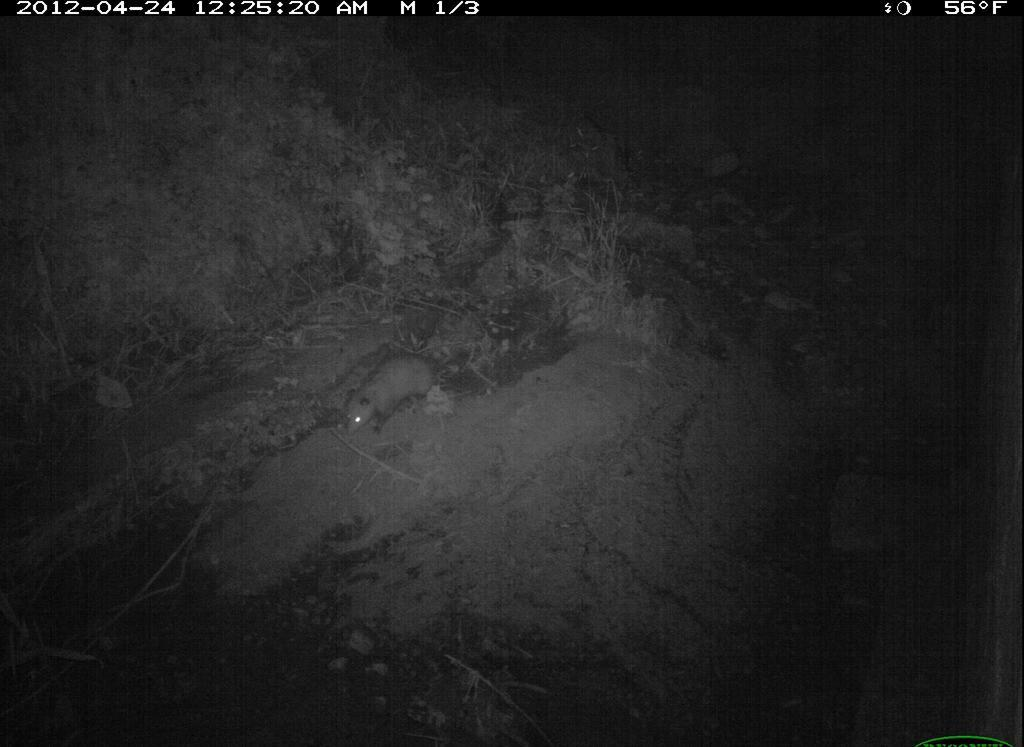opossum: (332, 341, 484, 445)
